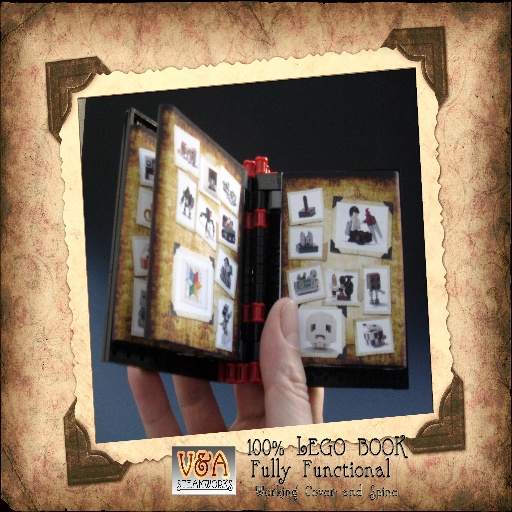hand: (247, 285, 313, 421)
